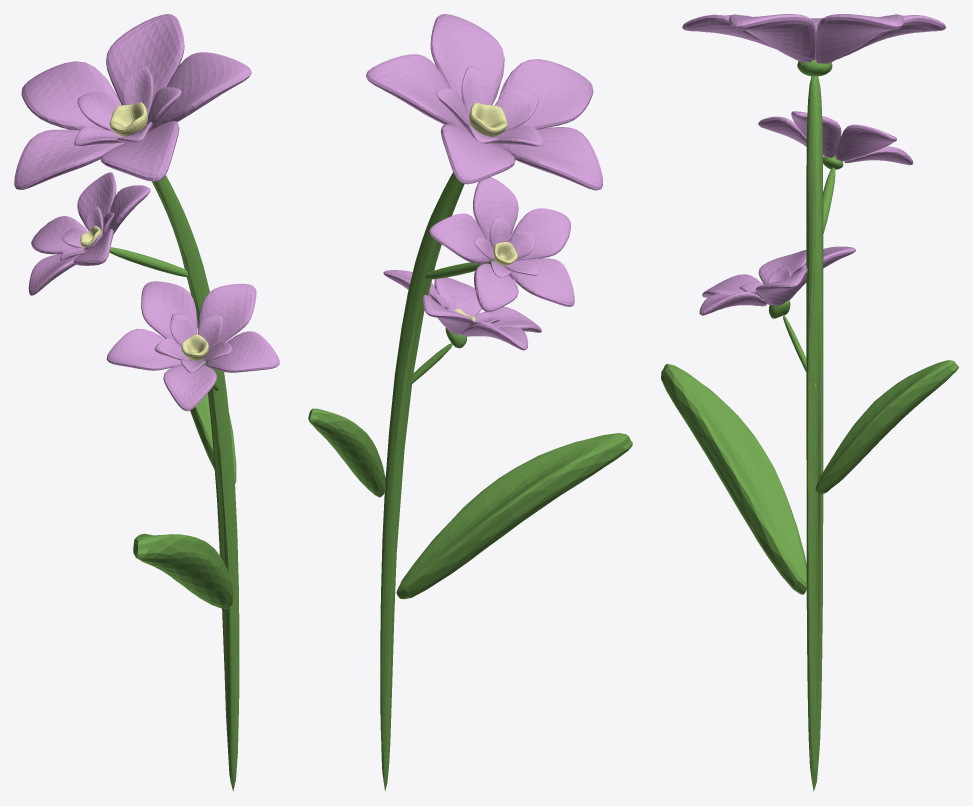
File: Guilt_Delphinium.glb
3 renders of one model, left to right at view 1: azimuth 30°, elevation 25°; view 2: azimuth 150°, elevation 25°; view 3: azimuth 270°, elevation 25°, orthographic.
Visible parts, largest first — view 1: Cube.009; view 2: Cube.009; view 3: Cube.009.
Part boxes in pixels (x1=…): Cube.009: x1=14, y1=14, x2=279, y2=791; Cube.009: x1=308, y1=14, x2=632, y2=791; Cube.009: x1=661, y1=14, x2=958, y2=791.
Bounding box in the file's own units: 4.39 × 13.51 × 4.79.
